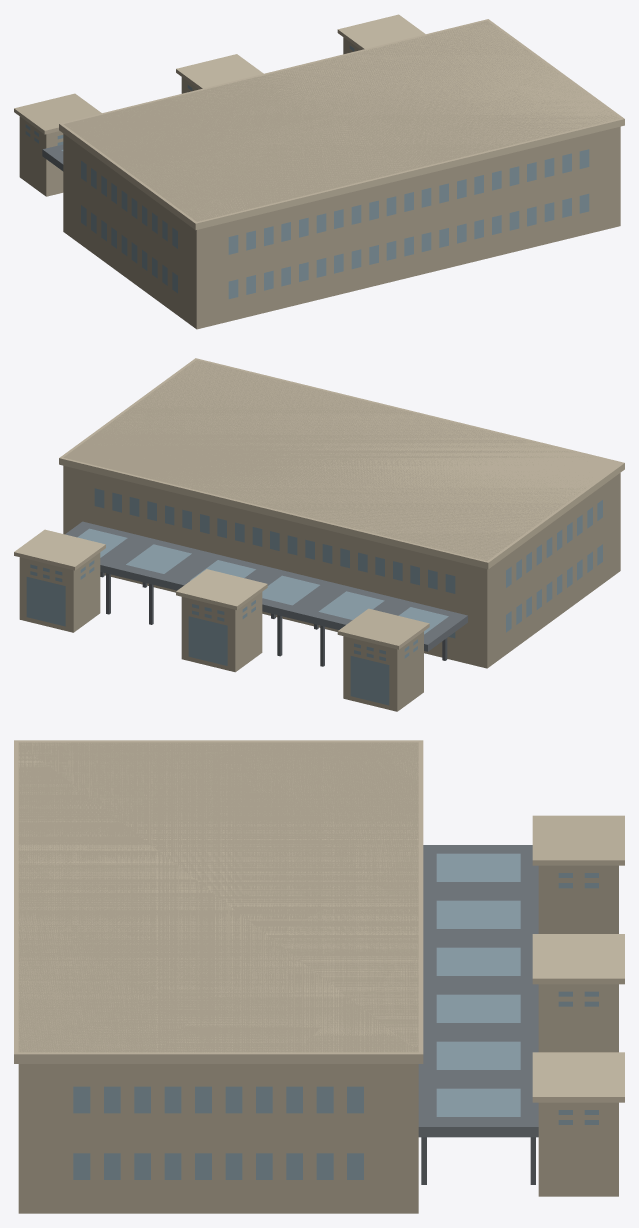
3 renders of one model, top to bottom at view 1: azimuth 30°, elevation 25°; view 2: azimuth 150°, elevation 25°; view 3: azimuth 270°, elevation 25°, orthographic. The views are drawn at different scales.
Visible parts, largest first — view 1: staten-island-ferry-lod1; view 2: staten-island-ferry-lod1; view 3: staten-island-ferry-lod1.
Boxes of the visible parts, <box> form: staten-island-ferry-lod1: <box>14,14,624,329</box>; staten-island-ferry-lod1: <box>14,358,624,711</box>; staten-island-ferry-lod1: <box>14,740,624,1213</box>.
Size of the model in its own units: 117 by 28 by 96.2.
